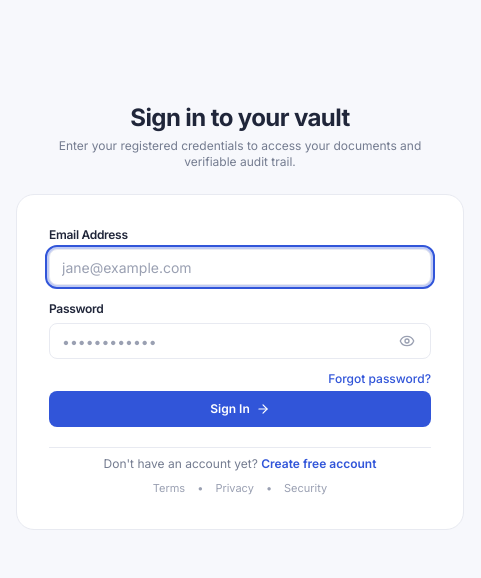
LoginPage › displays error message when login fails
In the field labelled "Email Address": (240, 267) [49,249,431,285], type "unknown@acme.example"
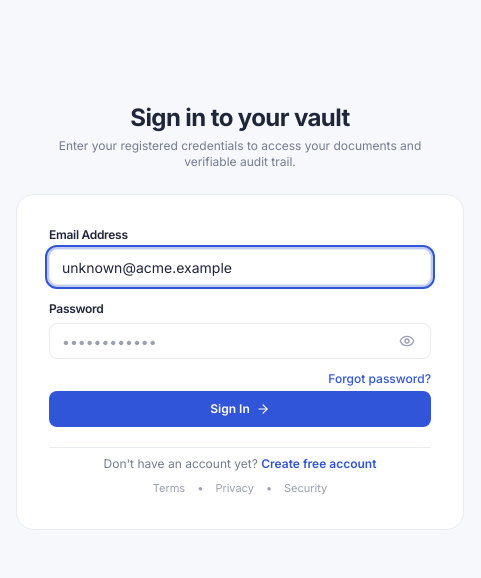
In the password field with placeholder "••••••••••••": (240, 341) [49,323,431,359], type "WrongPassword!"
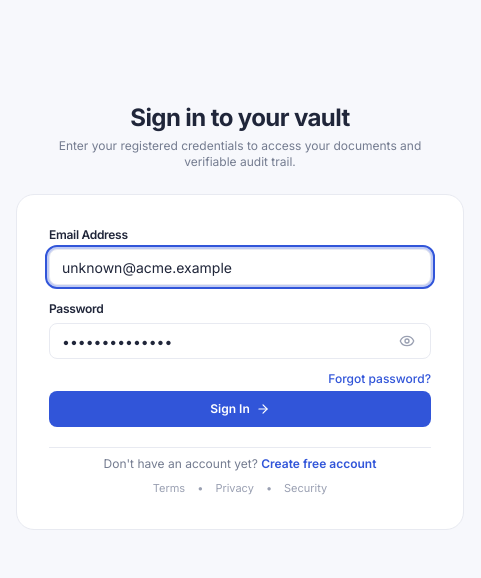
Submit the form "Email Address Password Forgot password? Sign In", box [49,227,431,427]
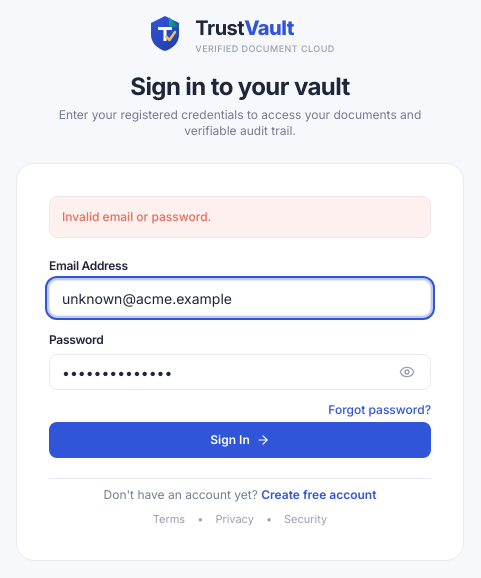
Result: the text "Invalid email or password." is shown at [49,196,431,238]
